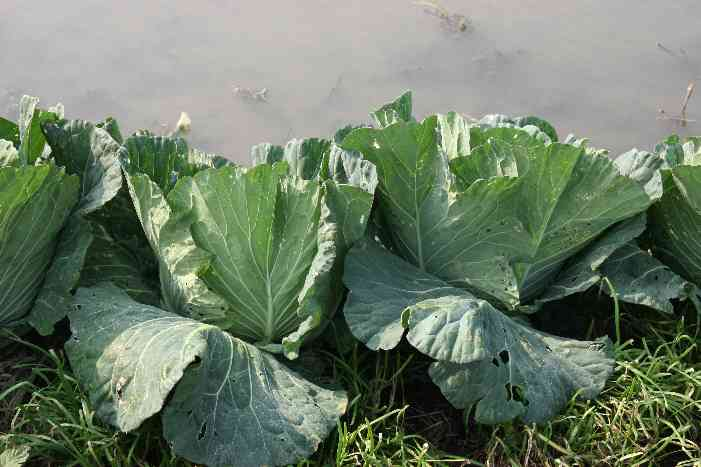cabbage: (319, 82, 699, 437), (113, 131, 379, 357), (0, 93, 123, 338)
